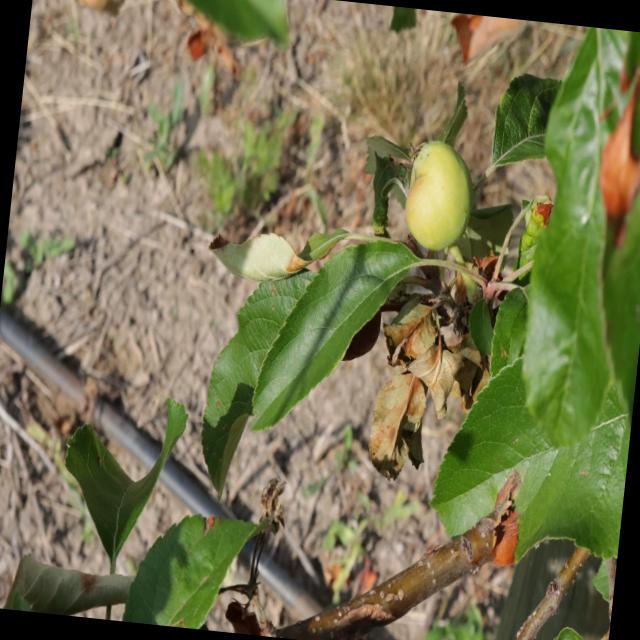-FireBlight-: (374, 304, 481, 468)
